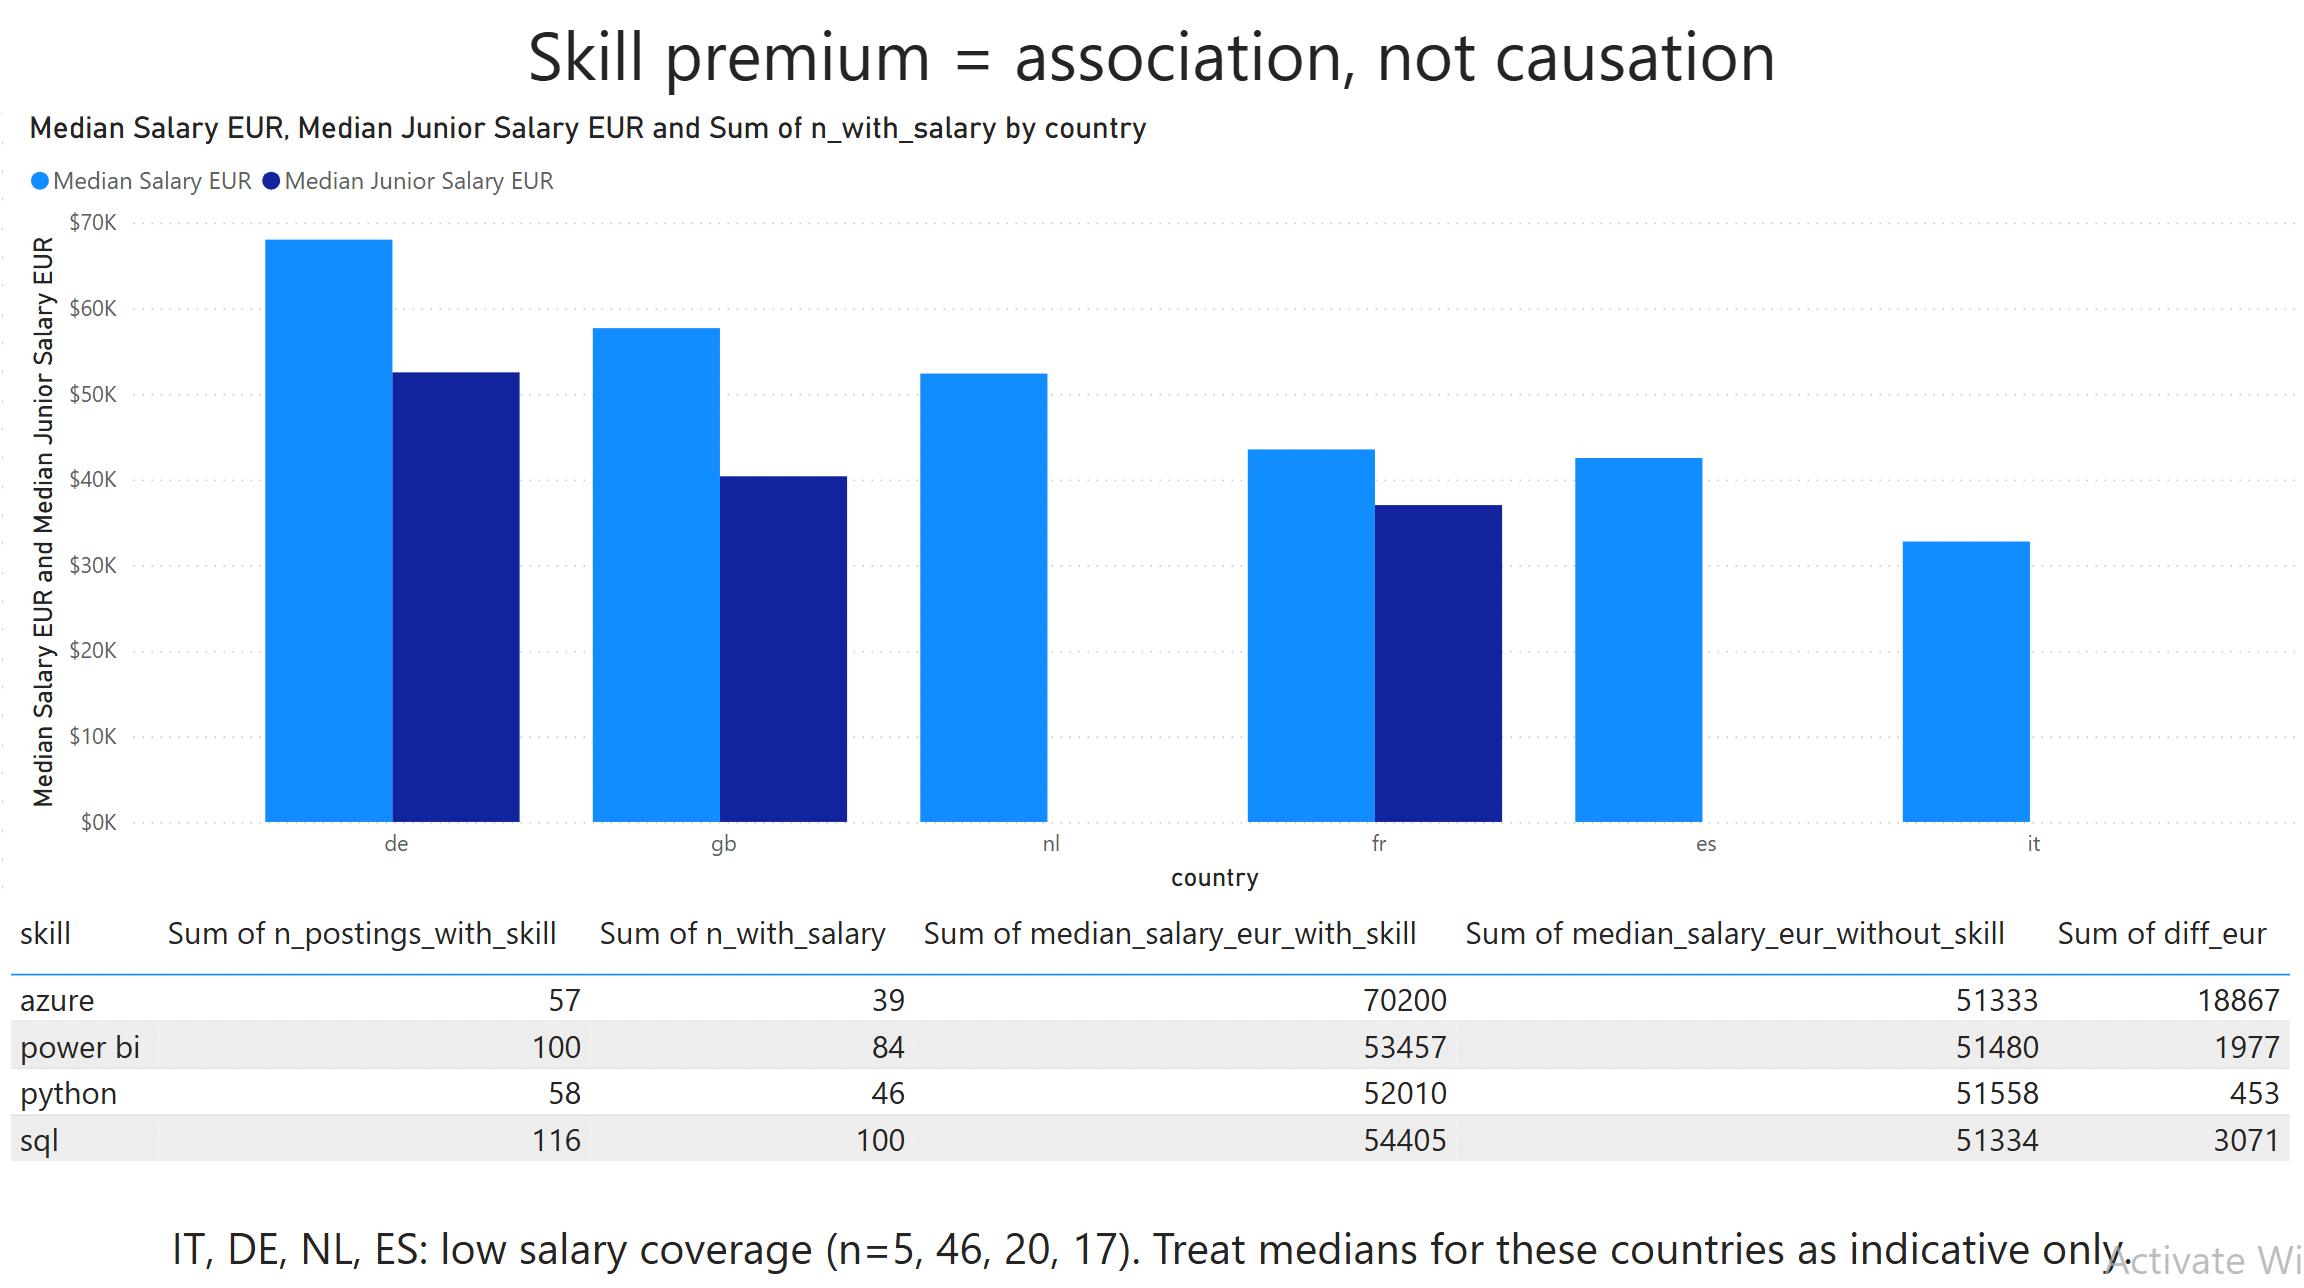

The page's visual inventory and layout, read from the dashboard file:
{"tool":"powerbi","page":{"name":"Salaries","canvas":[1280,720],"ordinal":1},"visuals":[{"type":"clusteredColumnChart","fields":{"Category":["pbi_jobs.country"],"Y":["pbi_jobs.Median Salary EUR","pbi_jobs.Median Junior Salary EUR"]},"box":[10.7,62.5,1269.3,438.9],"z":0},{"type":"tableEx","fields":{"Values":["pbi_salary_by_skill.skill","Sum(pbi_salary_by_skill.n_postings_with_skill)","Sum(pbi_salary_by_skill.n_with_salary)","Sum(pbi_salary_by_skill.median_salary_eur_with_skill)","select","Sum(pbi_salary_by_skill.median_salary_eur_without_skill)","select1","Sum(pbi_salary_by_skill.diff_eur)"]},"box":[0,501.3,1280,170.7],"z":1},{"type":"textbox","box":[0,0,1280,64],"z":2},{"type":"textbox","box":[0,672,1280,48.8],"z":3}]}

Visuals, with their boxes in screenshot pixels (x1, y1, x2, y2), scaled from the page's 1280x720 canvas onto the 2304x1288 screenshot:
clusteredColumnChart - pbi_jobs.country x pbi_jobs.Median Salary EUR: region(19, 112, 2303, 897)
tableEx - pbi_salary_by_skill.skill x Sum(pbi_salary_by_skill.n_postings_with_skill): region(0, 897, 2303, 1202)
textbox: region(0, 0, 2303, 114)
textbox: region(0, 1202, 2303, 1287)
